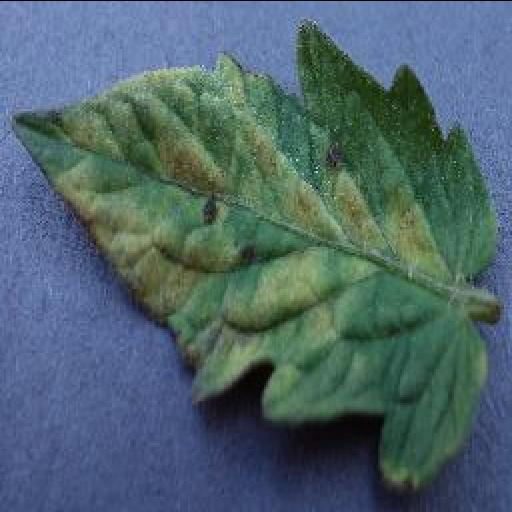disease_tomato: (11, 16, 493, 486)
